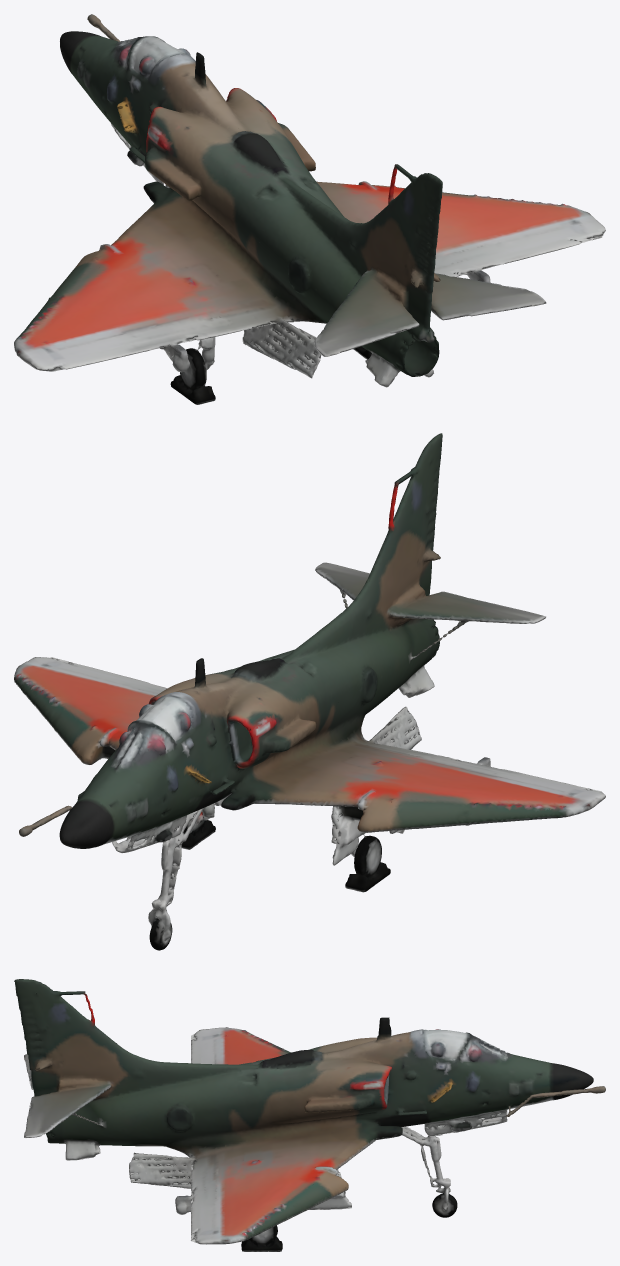
3 views of the same model, one above another, from view 1: azimuth 30°, elevation 25°; view 2: azimuth 150°, elevation 25°; view 3: azimuth 270°, elevation 25° (orthographic). The views are drawn at different scales.
Size of the model in its own units: 9.32 by 4.83 by 10.89.
